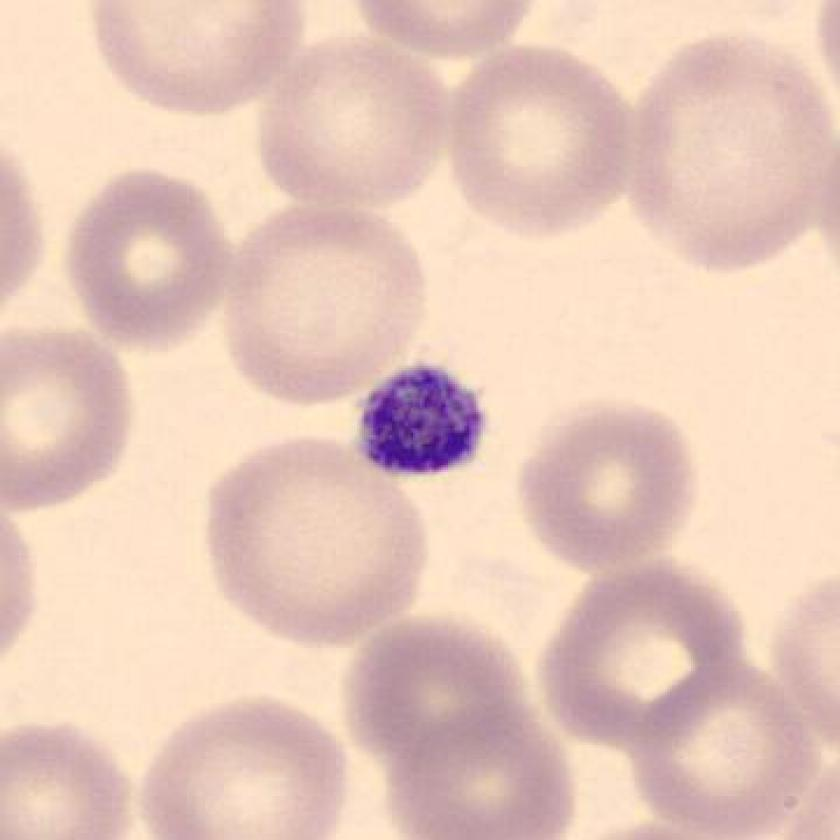platelets: (346, 350, 498, 494)
